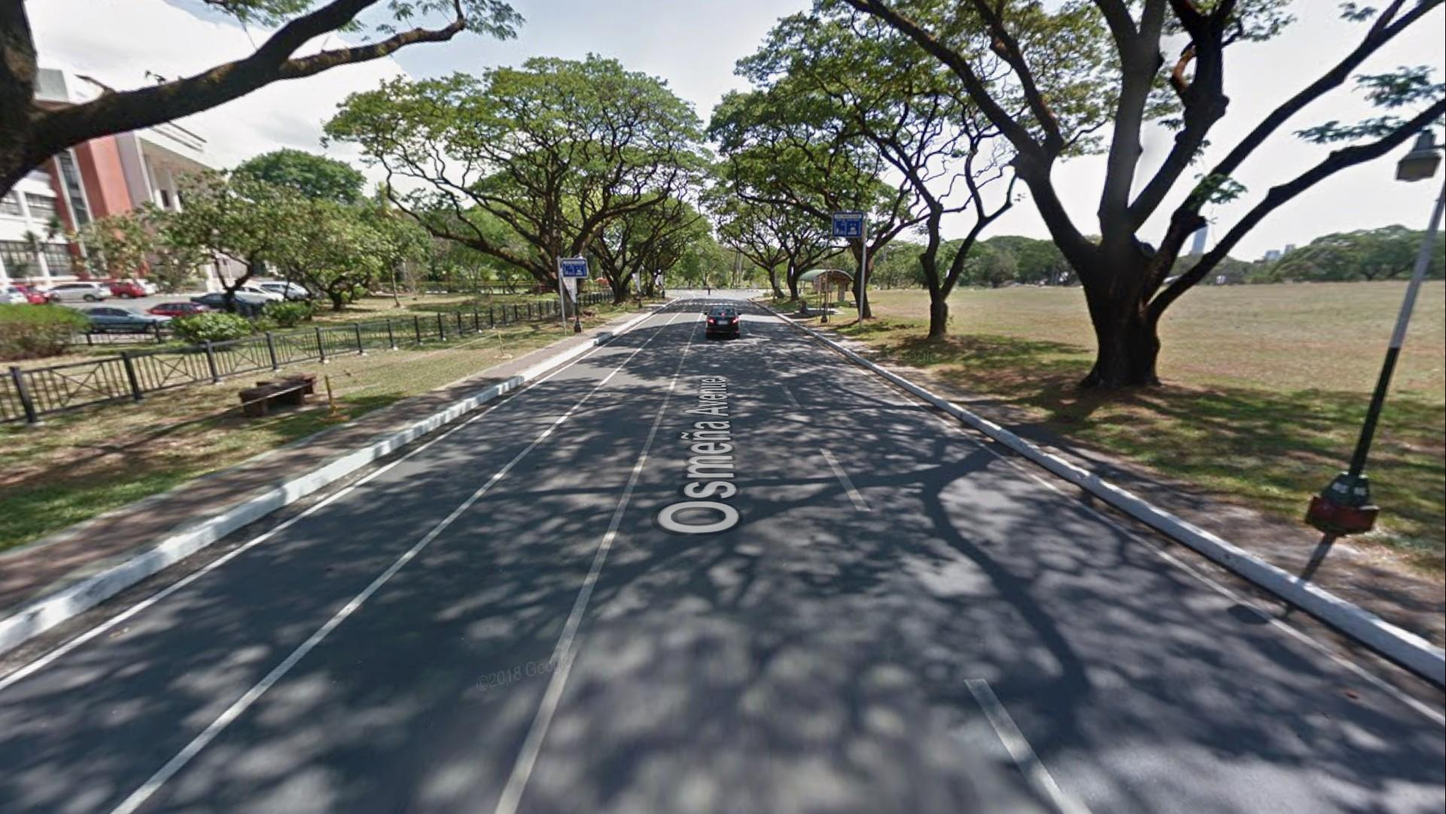pedestrian: (799, 296, 807, 317), (660, 287, 666, 302), (707, 284, 711, 295)
